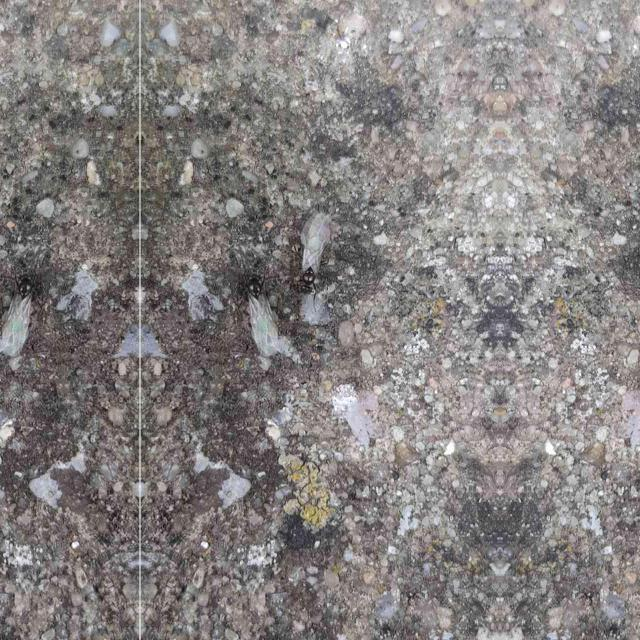Lasius: (290, 195, 336, 303), (231, 264, 281, 358), (0, 263, 48, 356)
